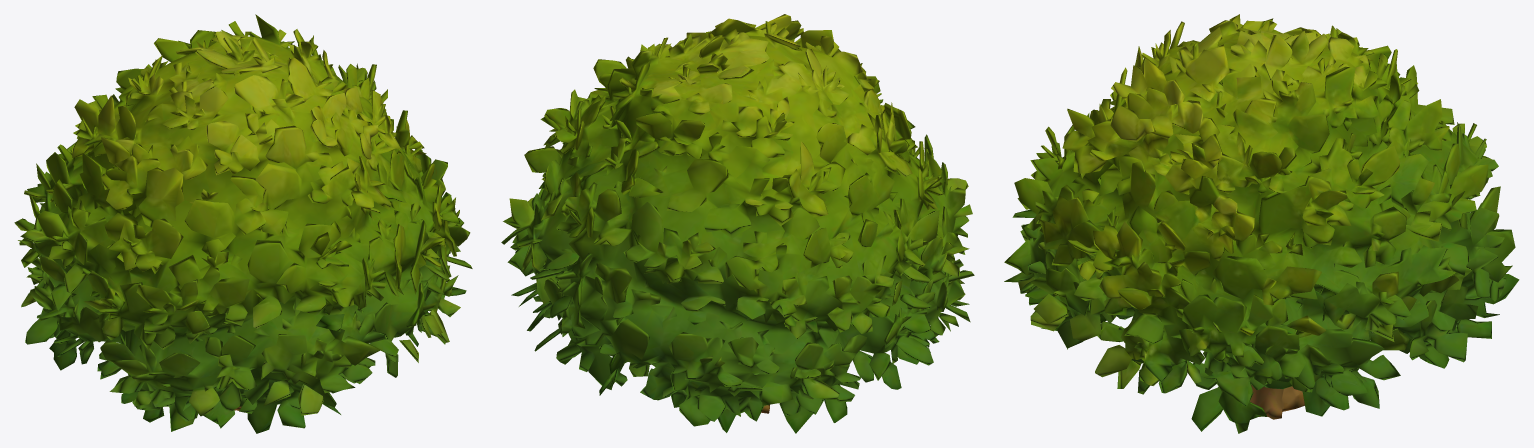
Rendered from prop_bush.glb.
3 renders of one model, left to right at view 1: azimuth 30°, elevation 25°; view 2: azimuth 150°, elevation 25°; view 3: azimuth 270°, elevation 25°, orthographic. The views are drawn at different scales.
Visible parts, largest first — view 1: tripo_node_e9ce9995-1828-41e4-b105-11309b2f04aa; view 2: tripo_node_e9ce9995-1828-41e4-b105-11309b2f04aa; view 3: tripo_node_e9ce9995-1828-41e4-b105-11309b2f04aa.
Part boxes in pixels (<box>): tripo_node_e9ce9995-1828-41e4-b105-11309b2f04aa: <box>14,14,472,433</box>; tripo_node_e9ce9995-1828-41e4-b105-11309b2f04aa: <box>501,14,974,433</box>; tripo_node_e9ce9995-1828-41e4-b105-11309b2f04aa: <box>1004,14,1519,433</box>.
Bounding box in the file's own units: 0.9563 × 0.797 × 1.
Materials: 1 (1 with a texture image).
